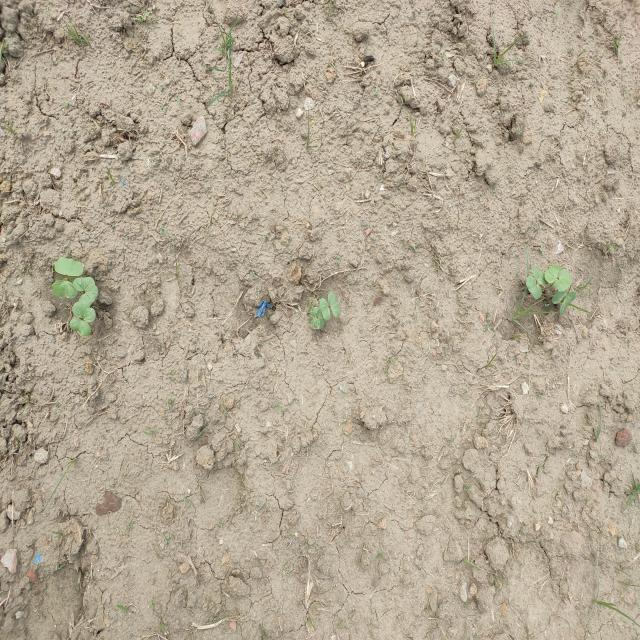seedling_s2: (55, 256, 83, 276), (72, 303, 96, 323), (52, 281, 78, 299), (79, 284, 98, 307), (553, 269, 571, 292), (560, 291, 577, 315), (526, 276, 542, 299), (70, 319, 91, 336), (544, 265, 562, 283), (328, 291, 340, 317), (73, 277, 95, 291), (532, 267, 548, 286), (319, 298, 331, 321), (552, 288, 568, 303), (311, 318, 324, 329), (310, 307, 323, 318)
